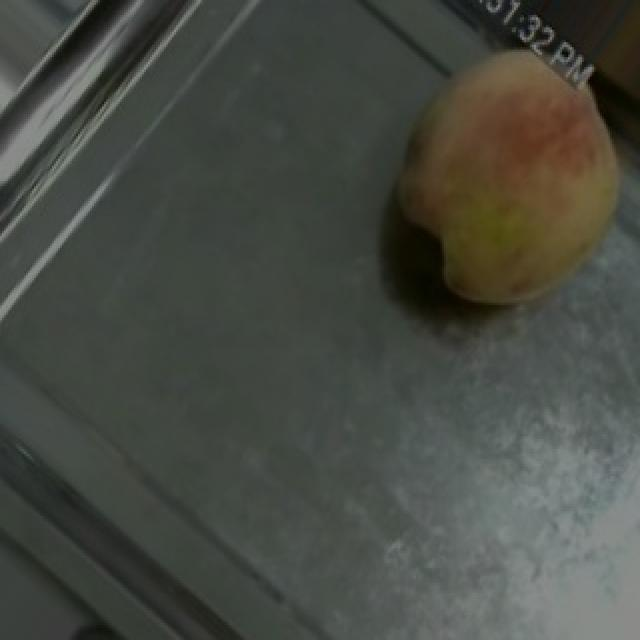Fruit: (346, 2, 640, 350)
